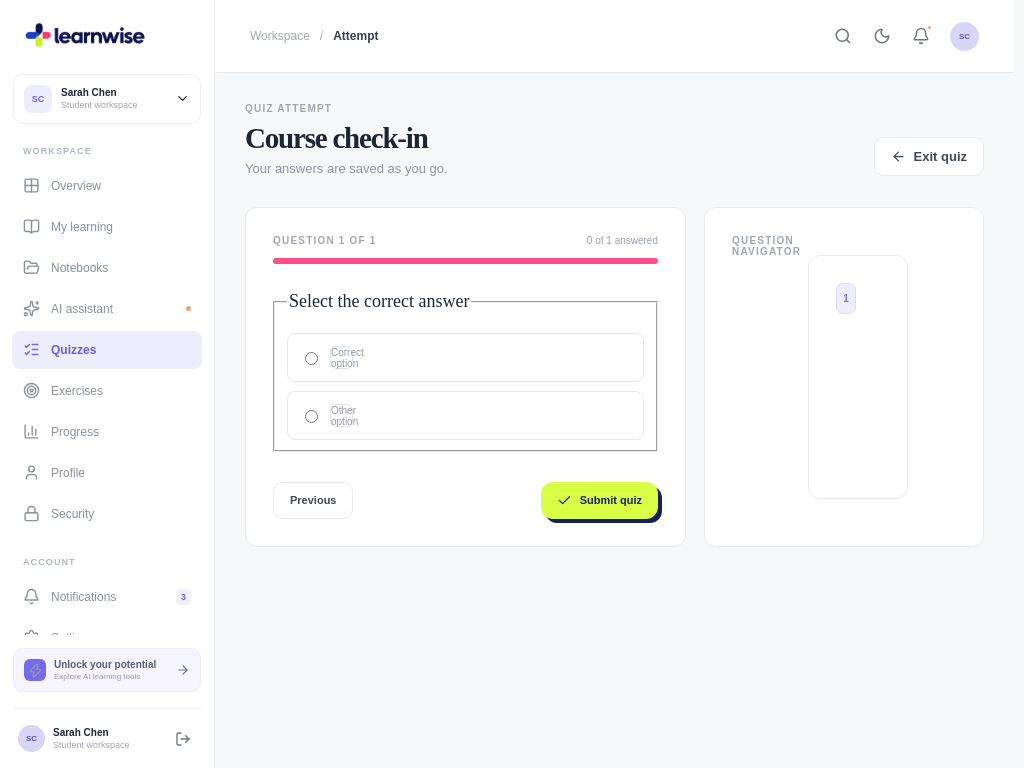
Test: backend assessment attempt › starts, saves, submits and displays the backend evaluation
Click the radio button labelled "Correct option": x=312, y=359 [305, 352, 318, 365]
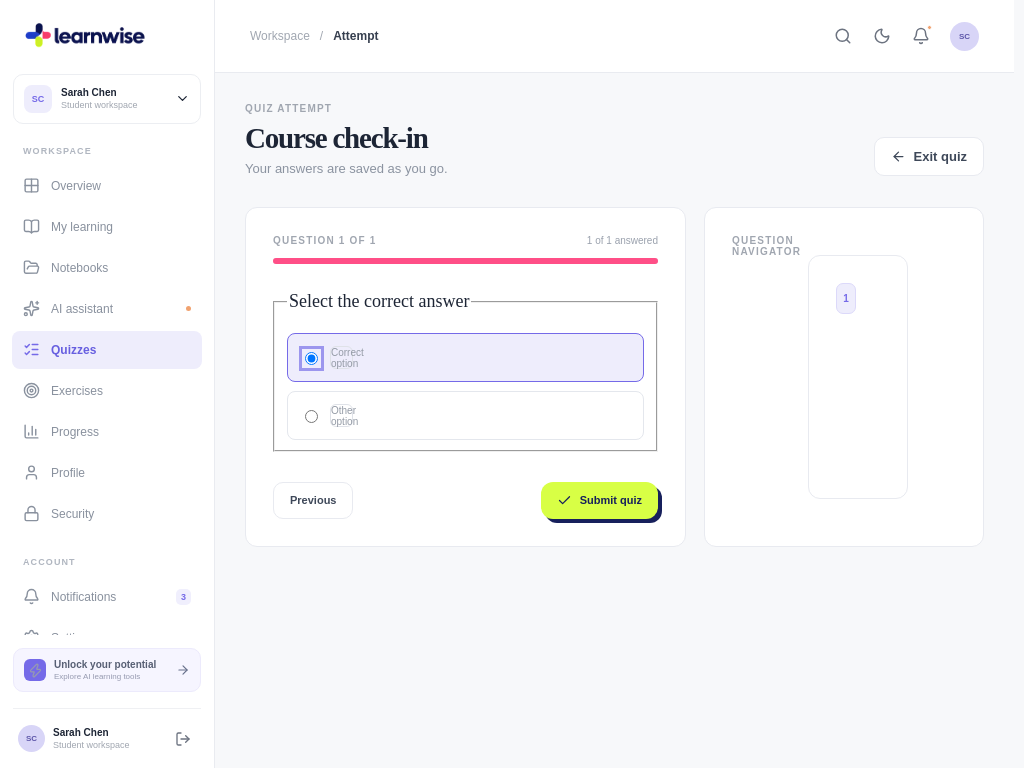
Click the button "Submit quiz": x=599, y=500 [541, 482, 658, 519]
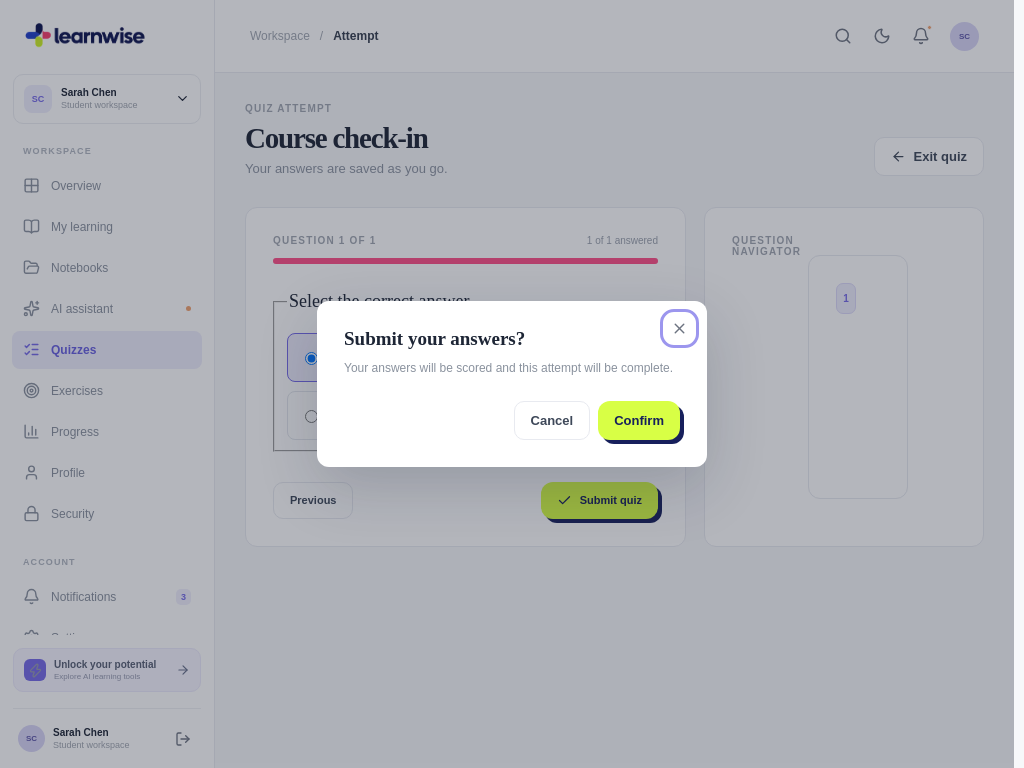
Click the button "Confirm": x=639, y=421 [598, 401, 680, 440]
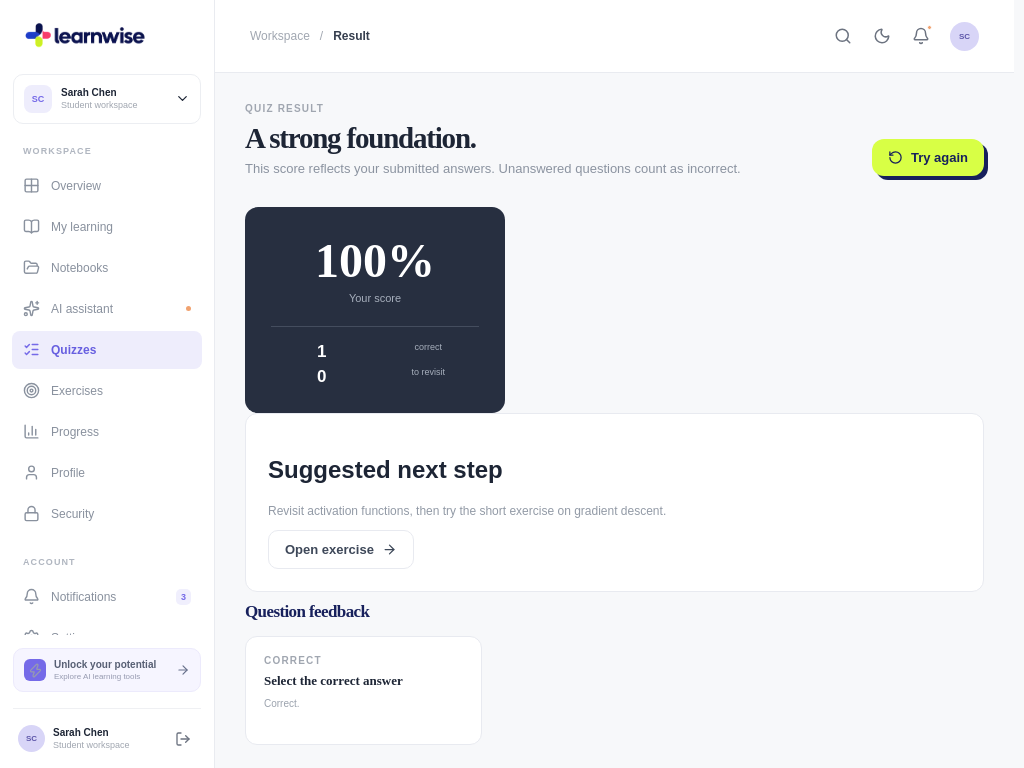
Check: the element named "Quiz score" shows "100%", box [245, 207, 505, 413]
Check: the text "Correct." is shown, box [264, 698, 300, 709]
